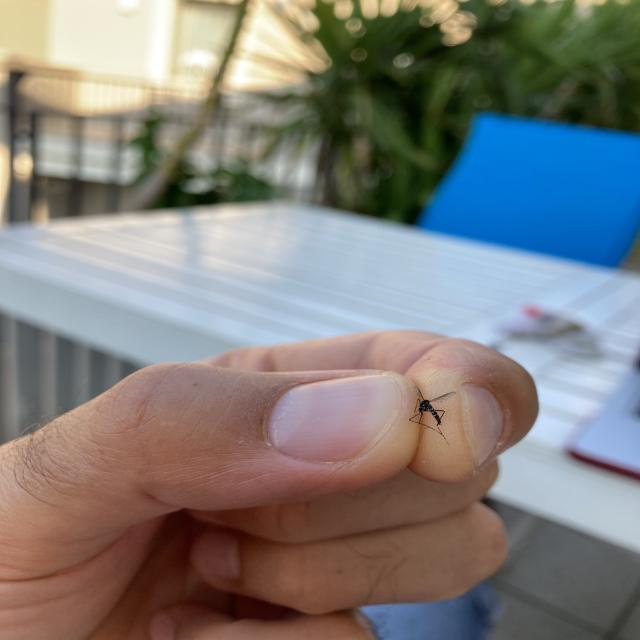albopictus: (396, 380, 462, 441)
